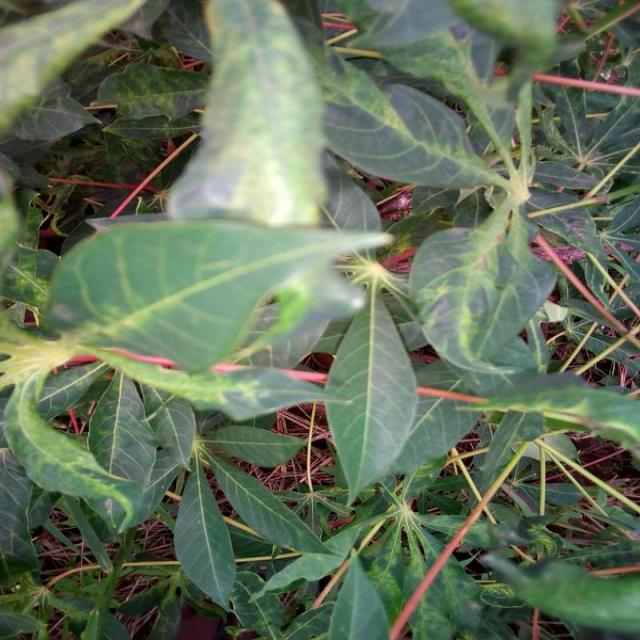cassava leaf: (3, 0, 639, 637), (41, 213, 394, 374), (409, 200, 559, 378), (323, 283, 420, 507)
